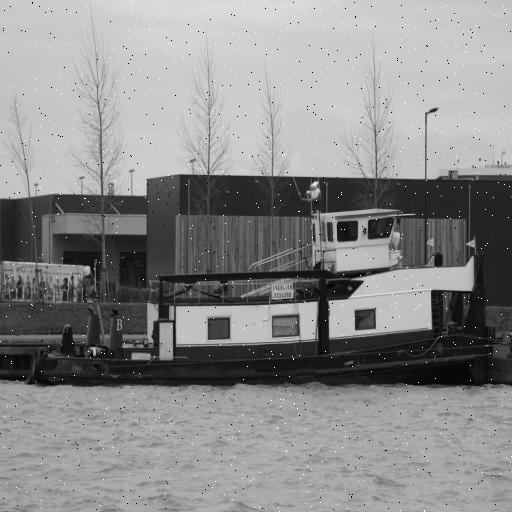tugboat: (24, 181, 503, 394)
